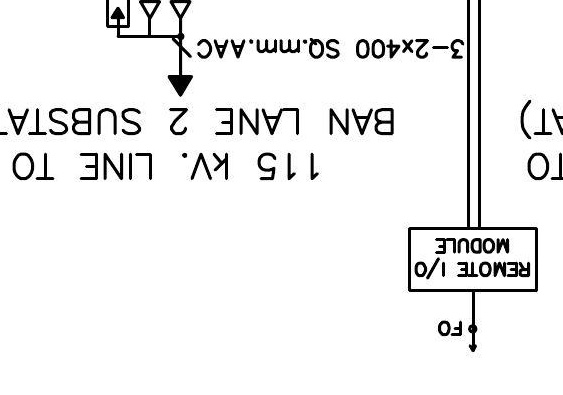remote_io_module: (408, 226, 539, 292)
